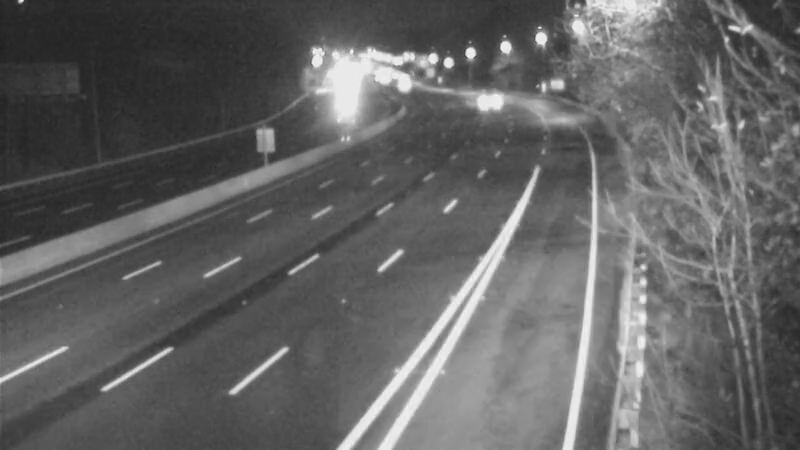vehicle: (458, 76, 508, 126), (319, 77, 369, 127)
